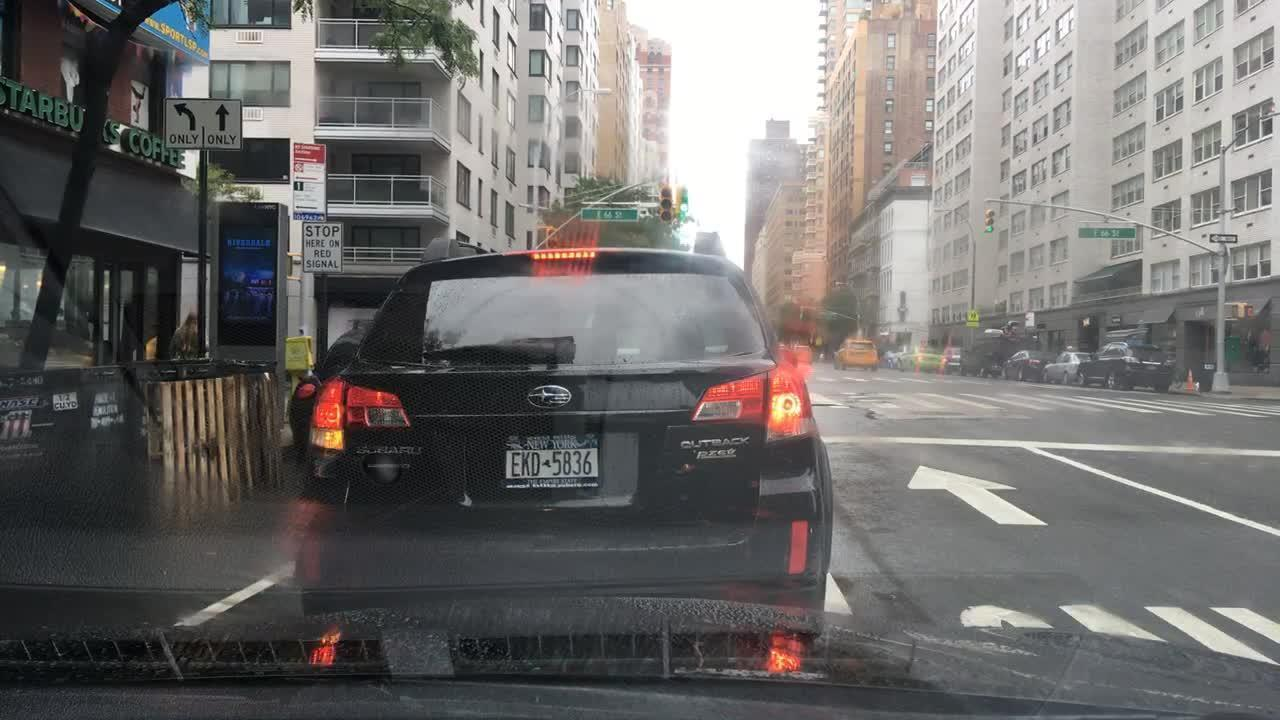subaru: (523, 386, 572, 411)
